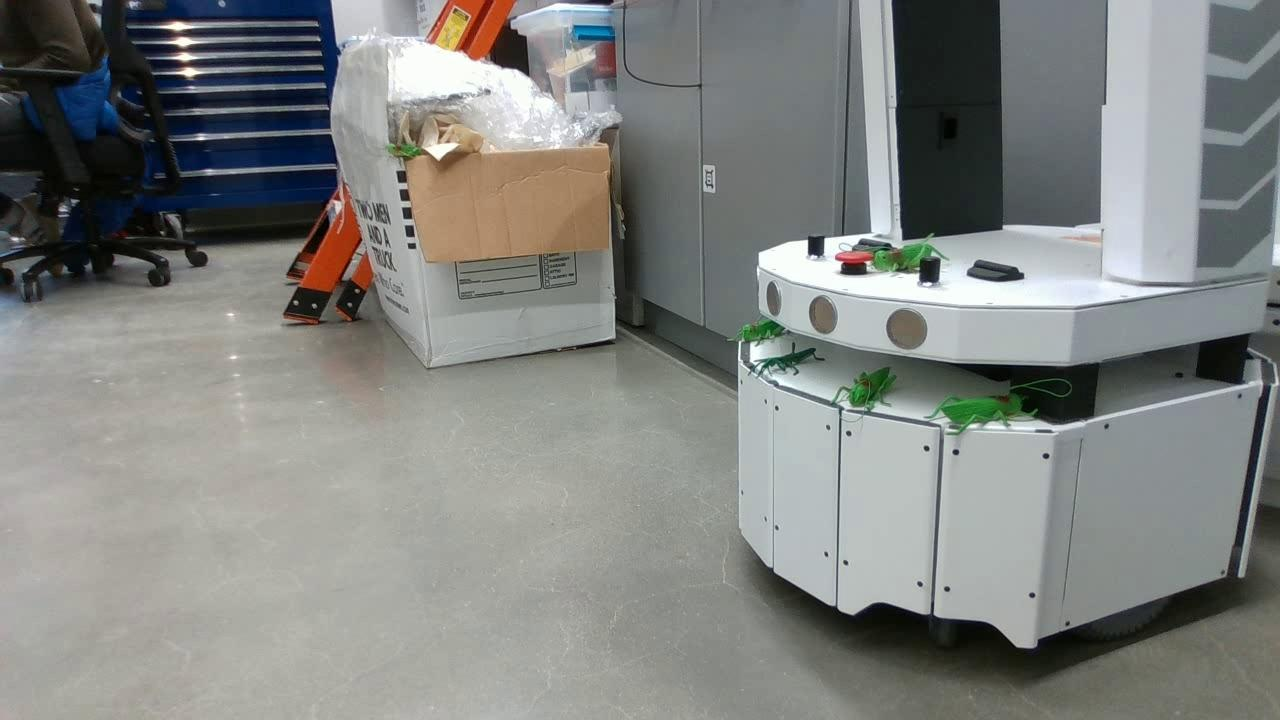grasshopper: (925, 387, 1040, 433), (870, 236, 943, 279), (832, 368, 893, 417), (727, 316, 787, 346)
